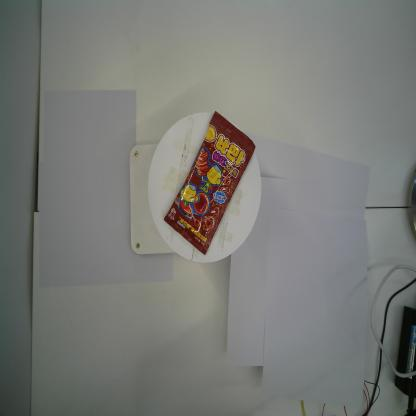Candy: (162, 108, 256, 256)
